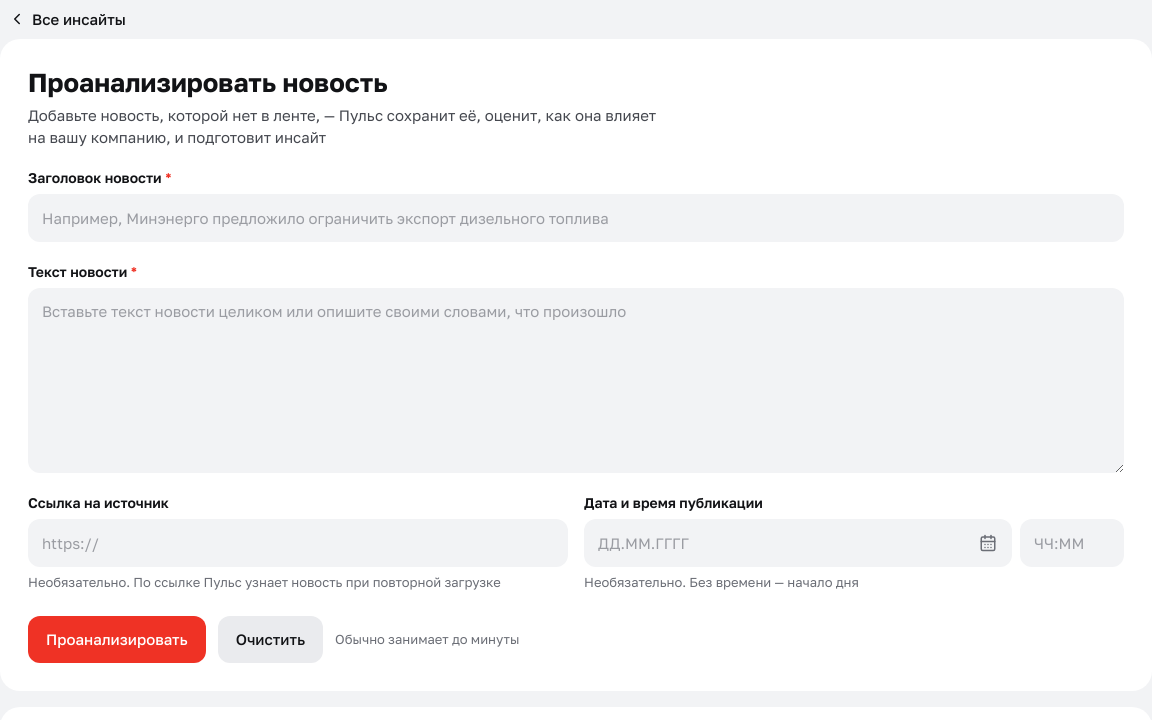
AnalyzeNews › пока анализ идёт, «Очистить» заблокирована
The image size is (1152, 720).
Replace the text in the field with placeholder "Минэнерго" with "Заголовок" at (576, 218), box 28,194 -> 1124,242
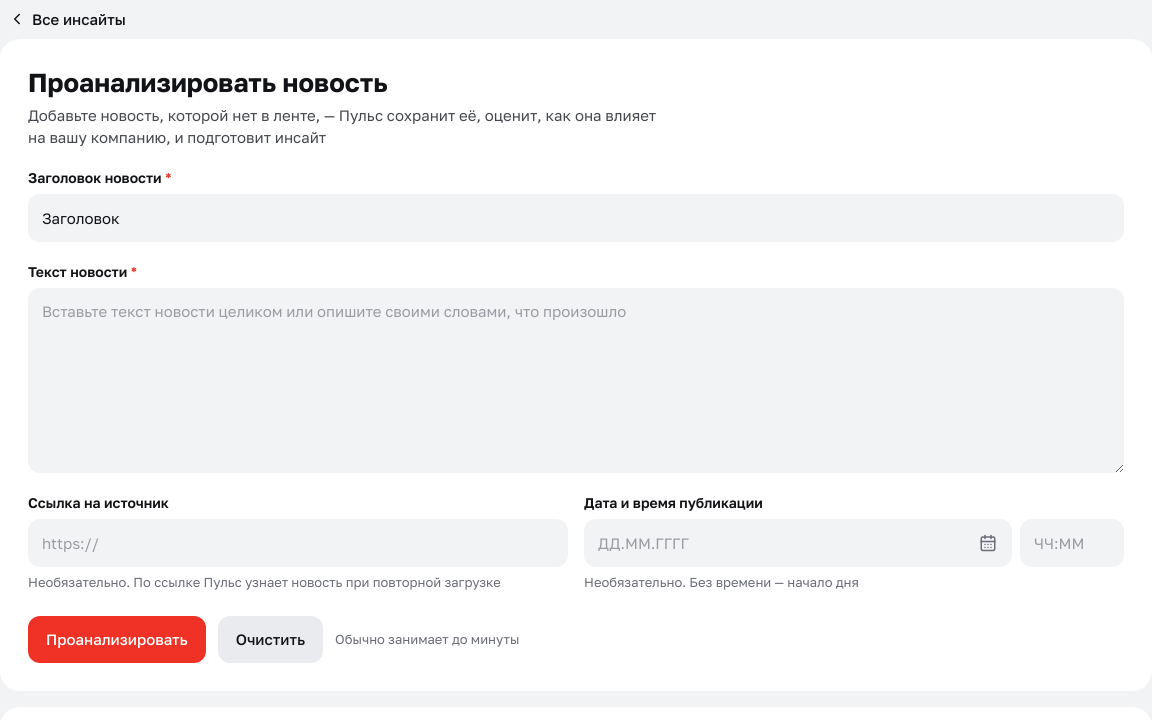
Replace the text in the text box with placeholder "Вставьте текст" with "Текст новости" at (576, 380), box 28,288 -> 1124,473
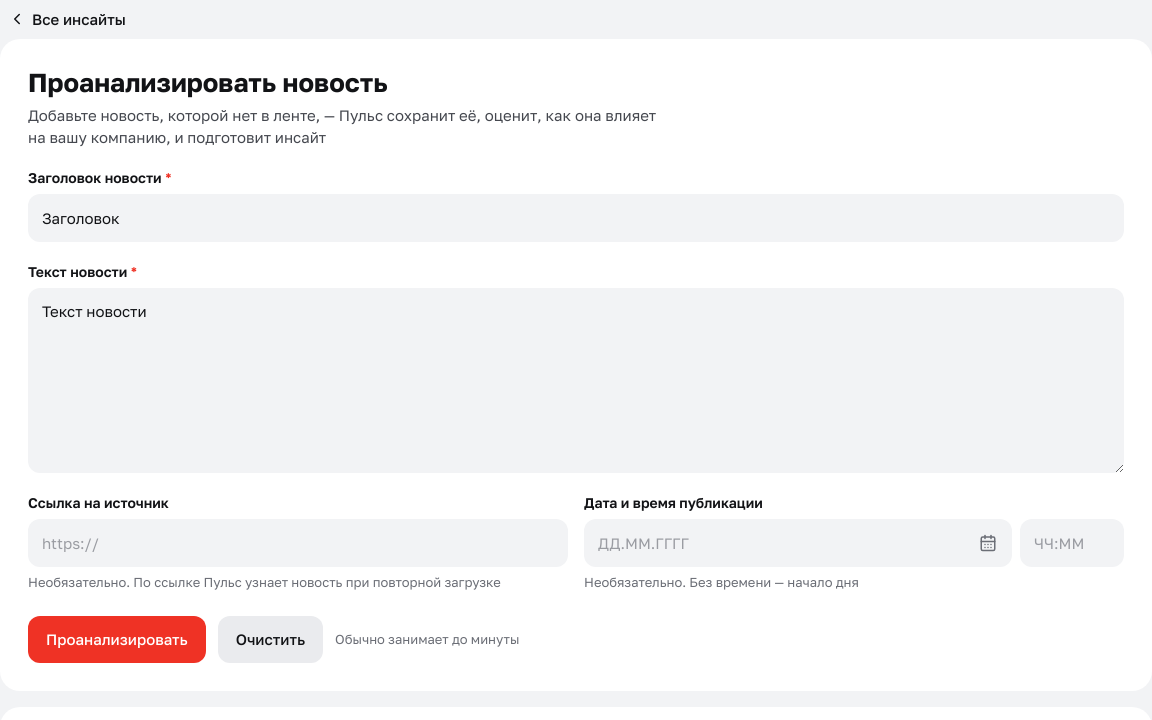
Click the button "Проанализировать" at (117, 639), box 28,616 -> 206,663
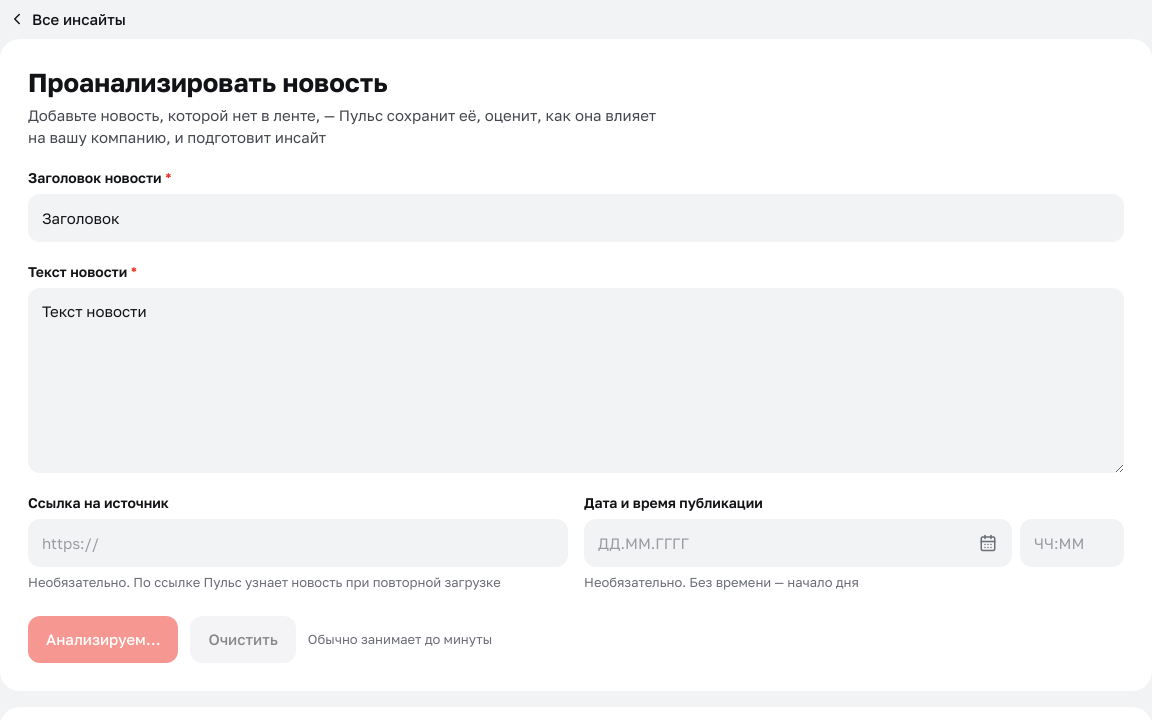
Check: the button "Очистить" is disabled, box 190,616 -> 296,663
Check: the button "Анализируем…" is disabled, box 28,616 -> 178,663
